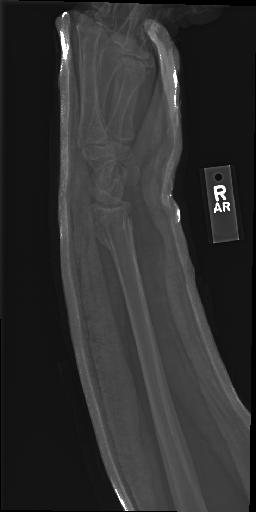fingers positive: (69, 191, 172, 254)
